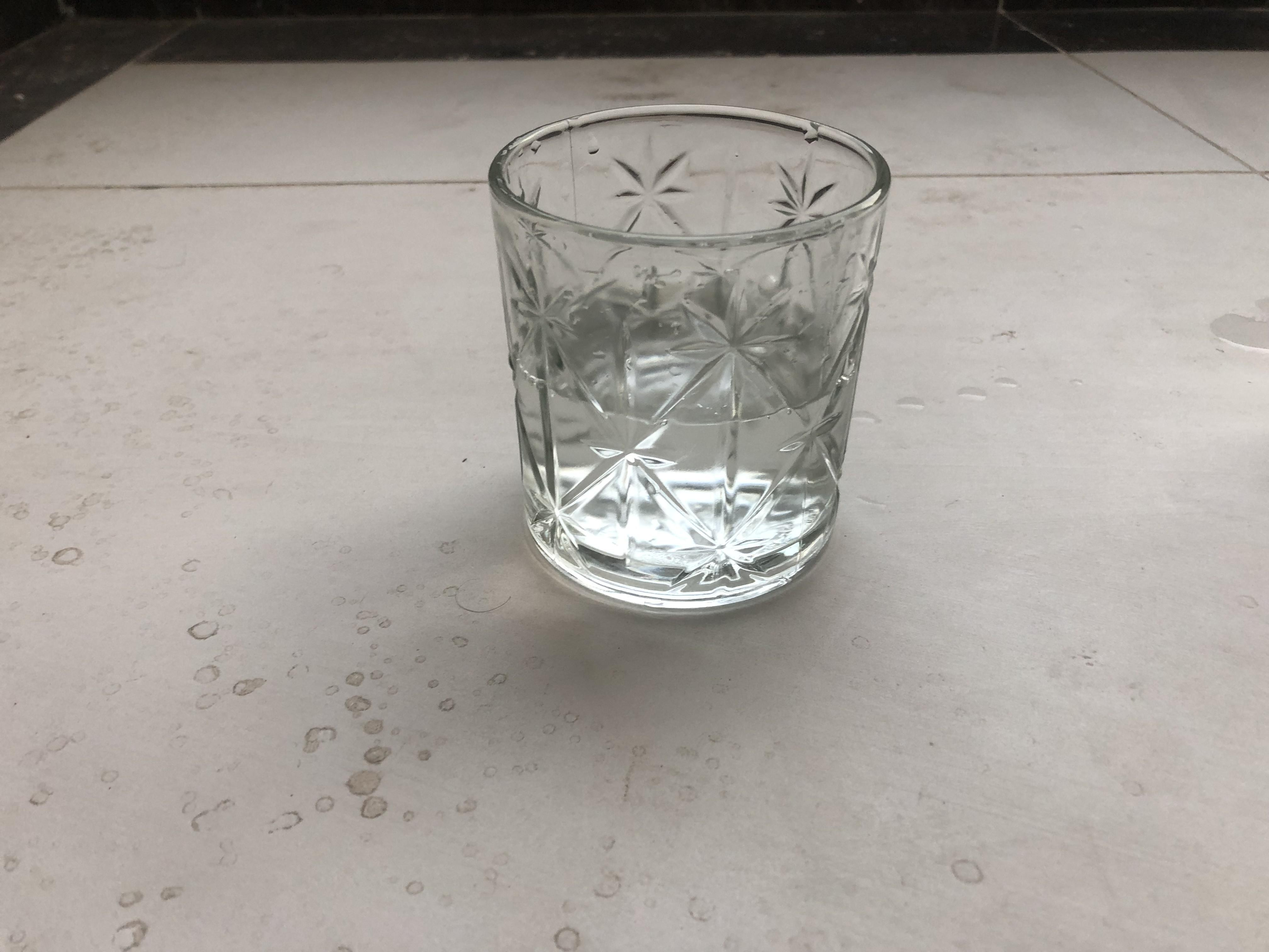glass-normal: (488, 97, 894, 622)
